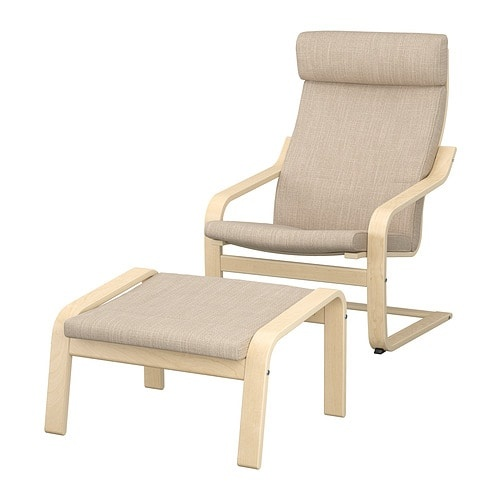obstacle: (205, 31, 454, 352), (45, 268, 345, 467)
